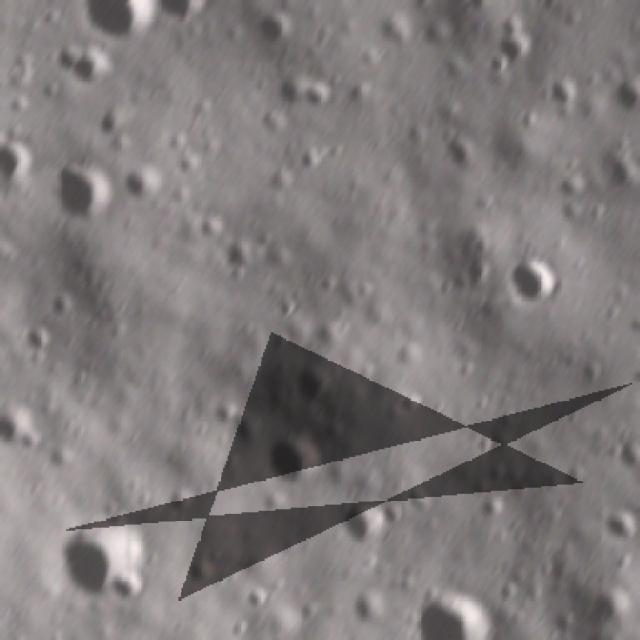crater: (38, 517, 145, 605), (35, 154, 117, 229), (398, 589, 502, 640), (462, 16, 546, 78), (499, 249, 564, 320), (264, 66, 341, 119), (265, 429, 324, 491), (80, 0, 154, 46), (536, 70, 590, 128), (118, 155, 172, 210), (601, 138, 640, 209), (598, 62, 640, 127), (584, 584, 640, 632), (0, 395, 42, 459), (329, 506, 385, 552), (244, 6, 298, 52), (284, 370, 338, 416), (151, 0, 215, 37), (0, 124, 34, 190), (597, 503, 640, 546), (607, 438, 640, 475)
